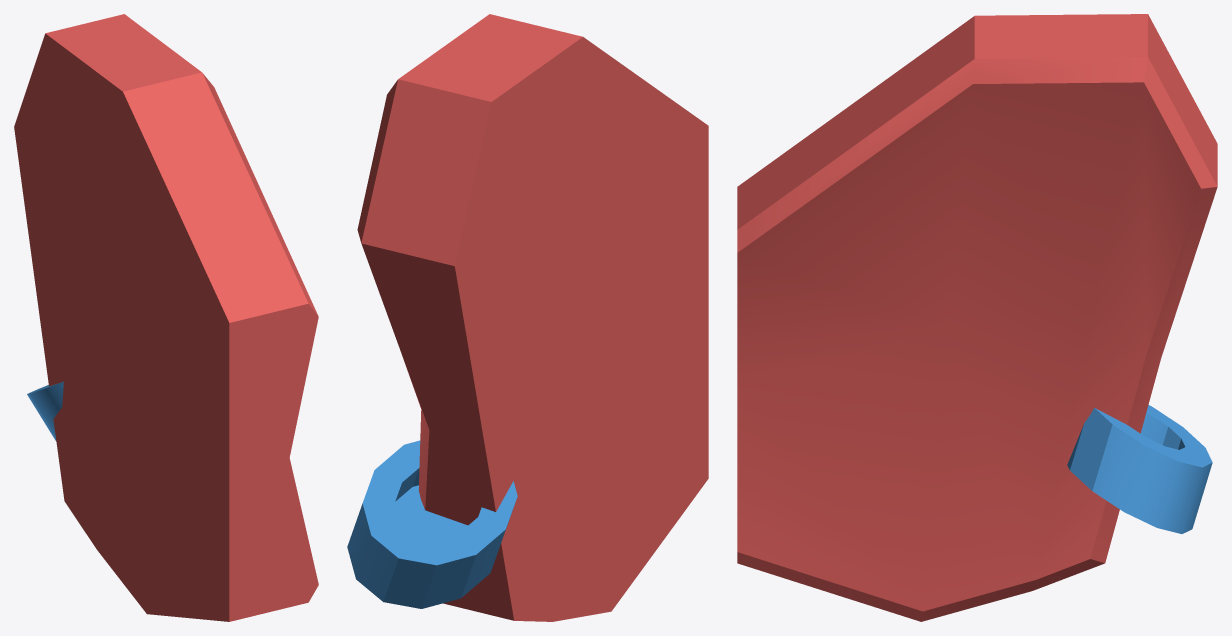
File: ear_004.fbx
3 views of the same model, side by side, from view 1: azimuth 30°, elevation 25°; view 2: azimuth 150°, elevation 25°; view 3: azimuth 270°, elevation 25° (orthographic). The views are drawn at different scales.
Parts seen in each view (by area): view 1: Cube; view 2: Cube; view 3: Cube.
Part boxes in pixels (x1,y1,x2,y2): Cube: (14,14,318,621); Cube: (347,14,708,621); Cube: (737,14,1217,621).
Size of the model in its own units: 95.43 by 339 by 261.
